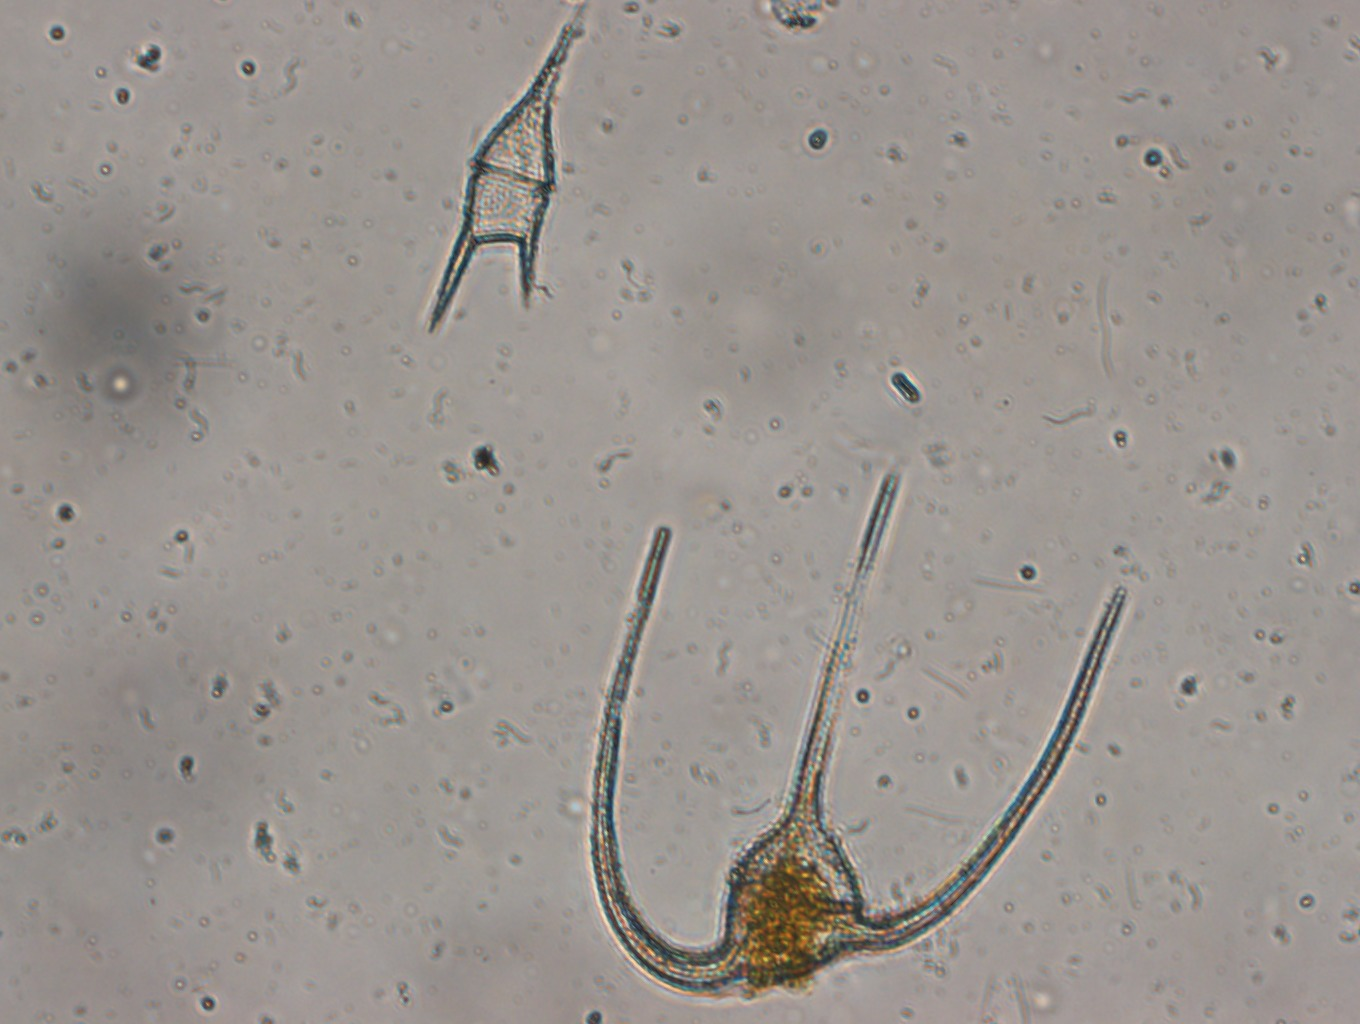ceratium furca: (419, 14, 591, 341)
ceratium trichoceros: (570, 463, 1139, 1009)
